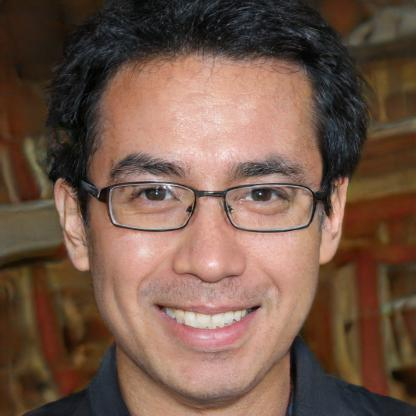glasses: (93, 176, 319, 236)
